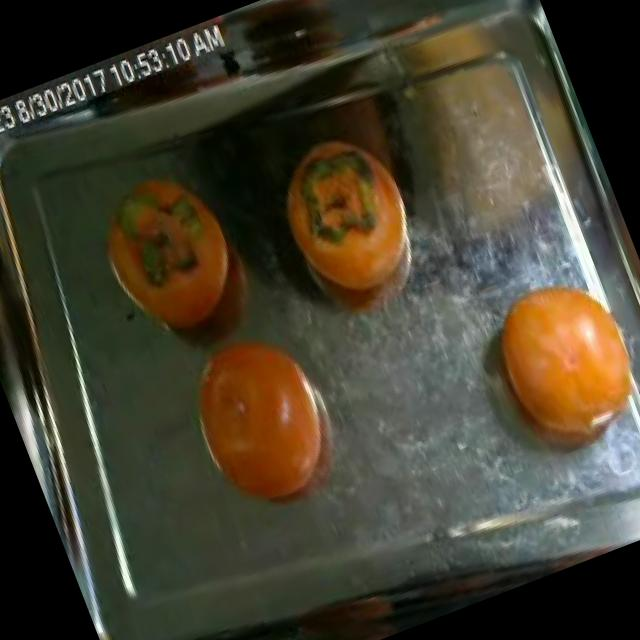Fruit: (152, 296, 370, 550), (433, 247, 640, 500), (66, 141, 274, 370)
